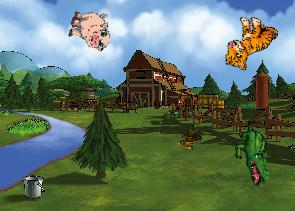crocodile: (222, 119, 285, 188)
pig: (65, 6, 114, 53)
tiger: (221, 11, 280, 76)
